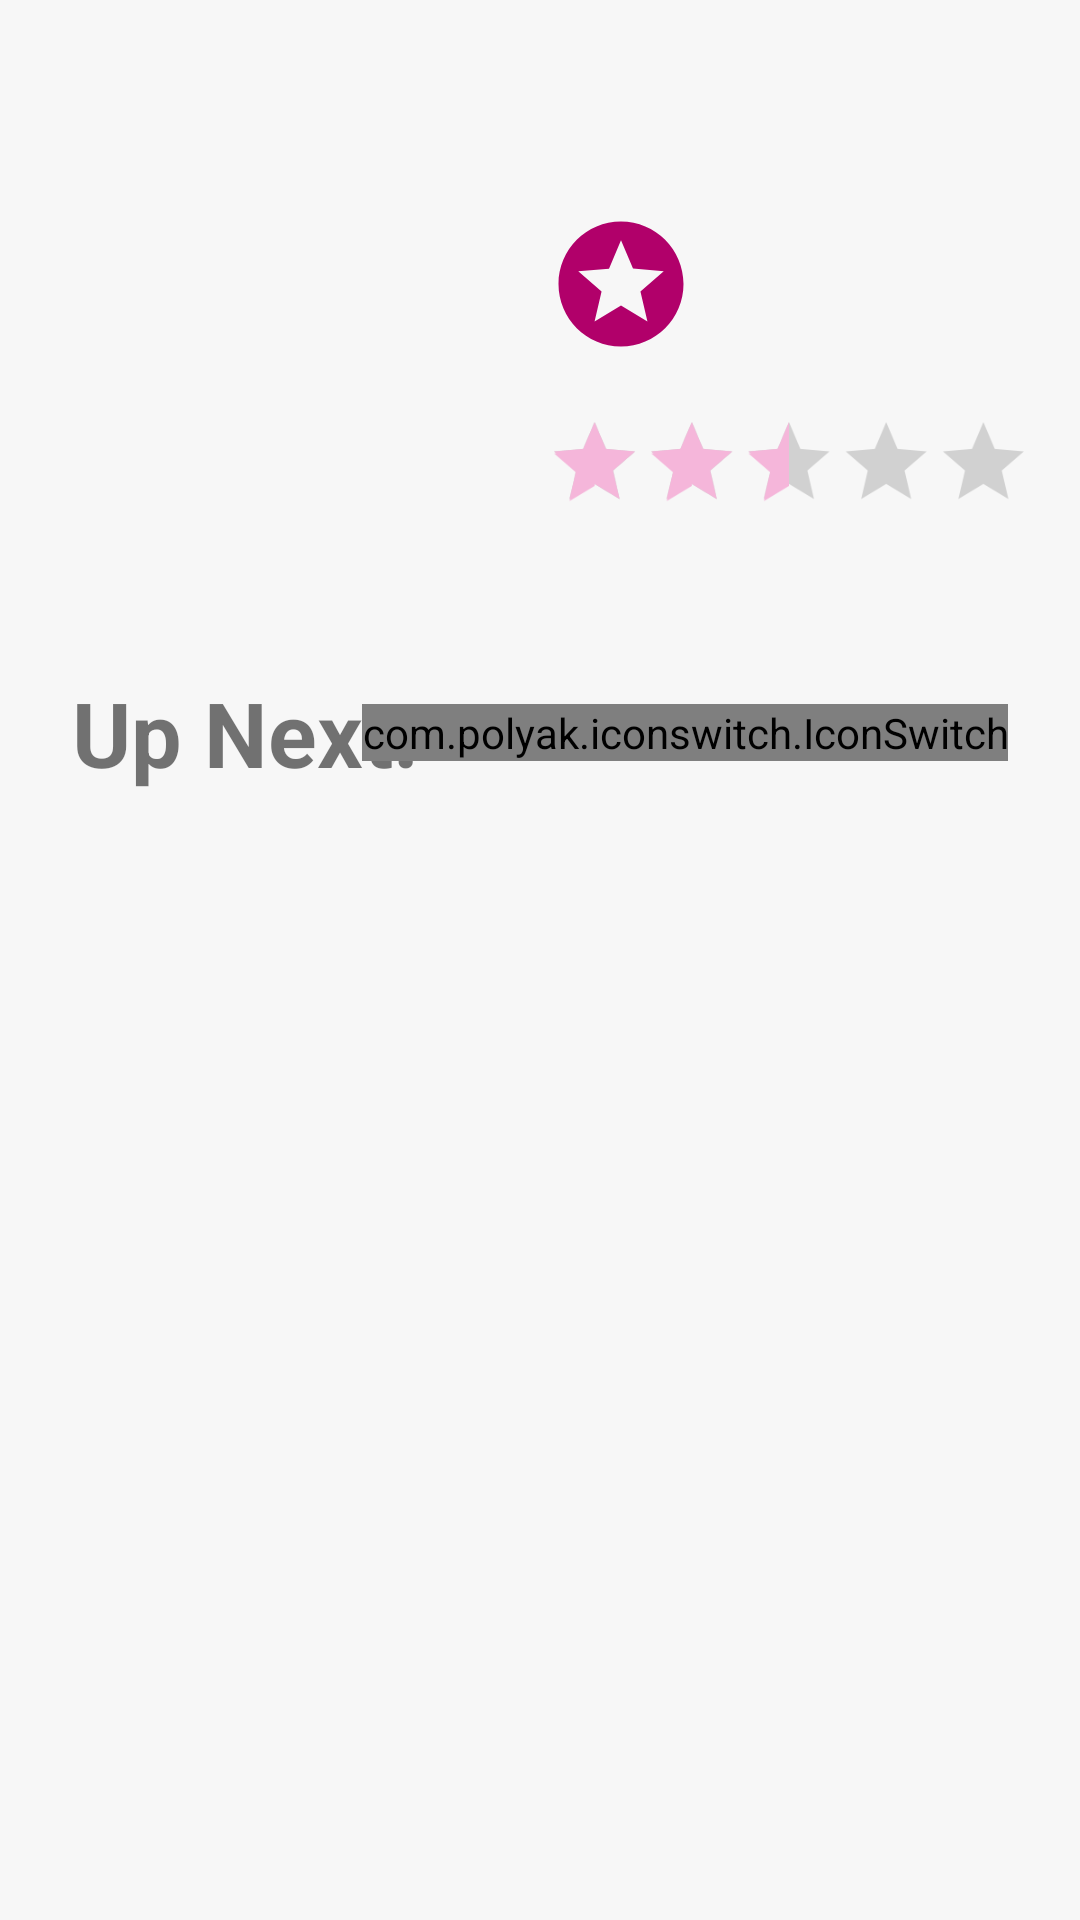

Named icons in this screenshot (1080 x 1920) and their bounding boxes, (x1, y1, x2, y2):
star: (558, 221, 684, 347)
